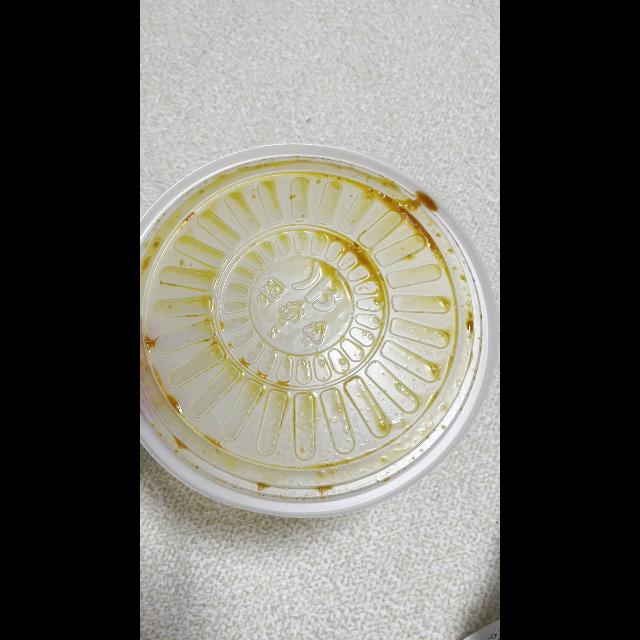dirty: (140, 155, 493, 515)
